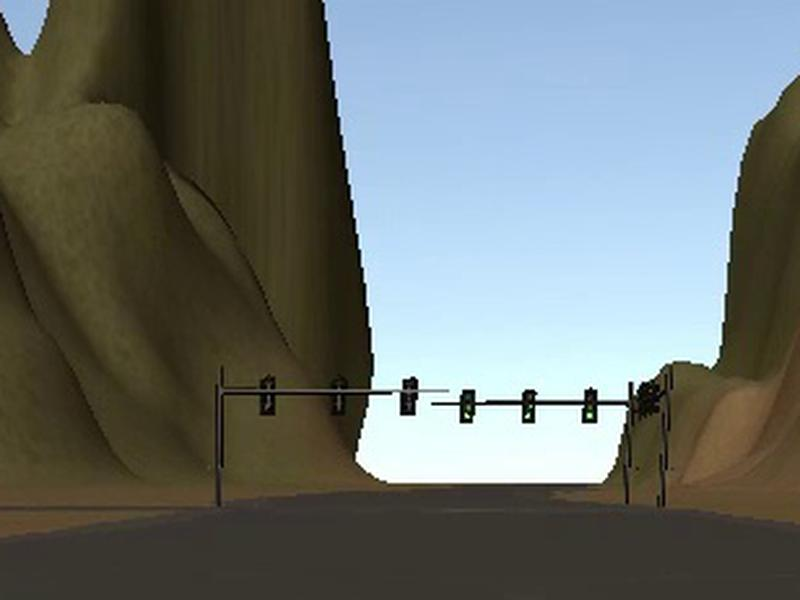Green: (581, 388, 599, 423), (459, 389, 475, 423), (522, 390, 537, 423)
